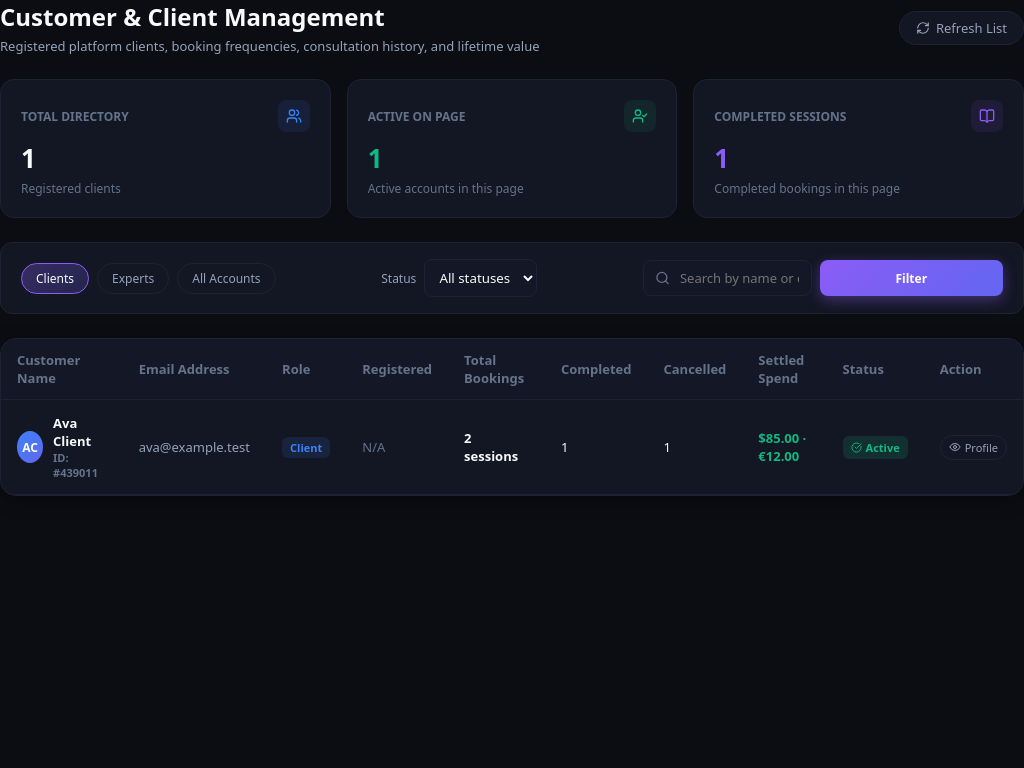
it: live admin views › renders real customer rows and loads the selected customer history
Expected: the text "ava@example.test" is shown, x1=123 y1=400 x2=266 y2=494
Expected: the text "$85.00 · €12.00" is shown, x1=742 y1=400 x2=826 y2=494
Select "Suspended" in the dropdown named "filter accounts by status". click: (481, 278)
box: x1=424 y1=259 x2=537 y2=297
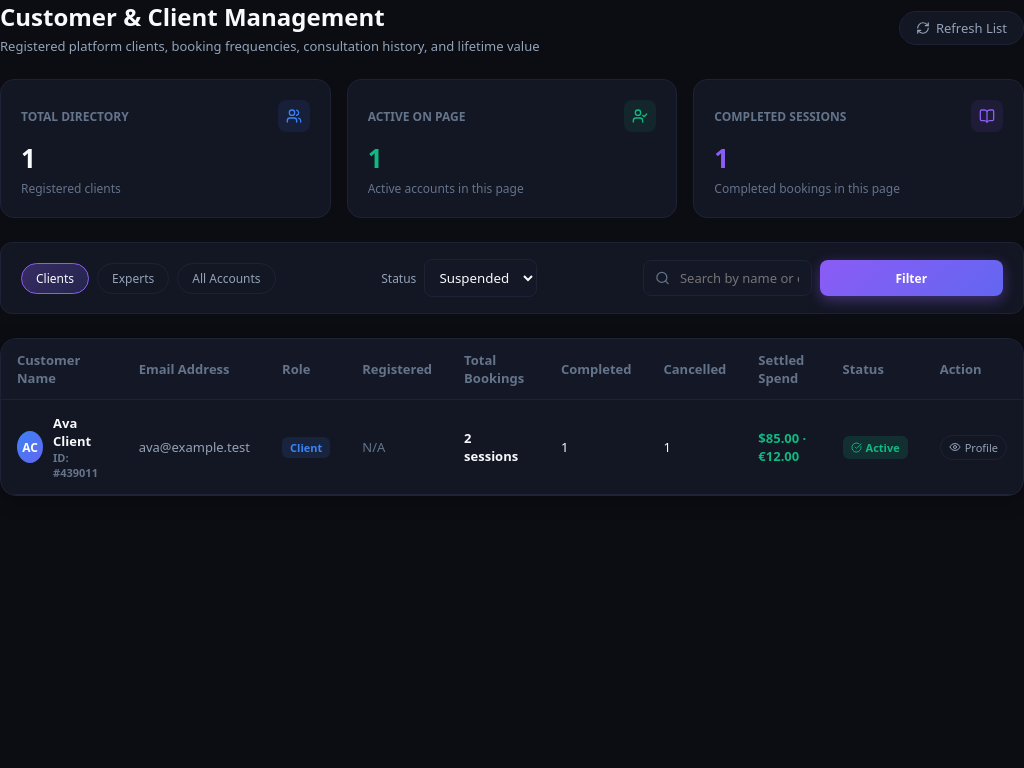
Click the button "Profile". click: click(973, 447)
box: x1=940 y1=434 x2=1007 y2=460
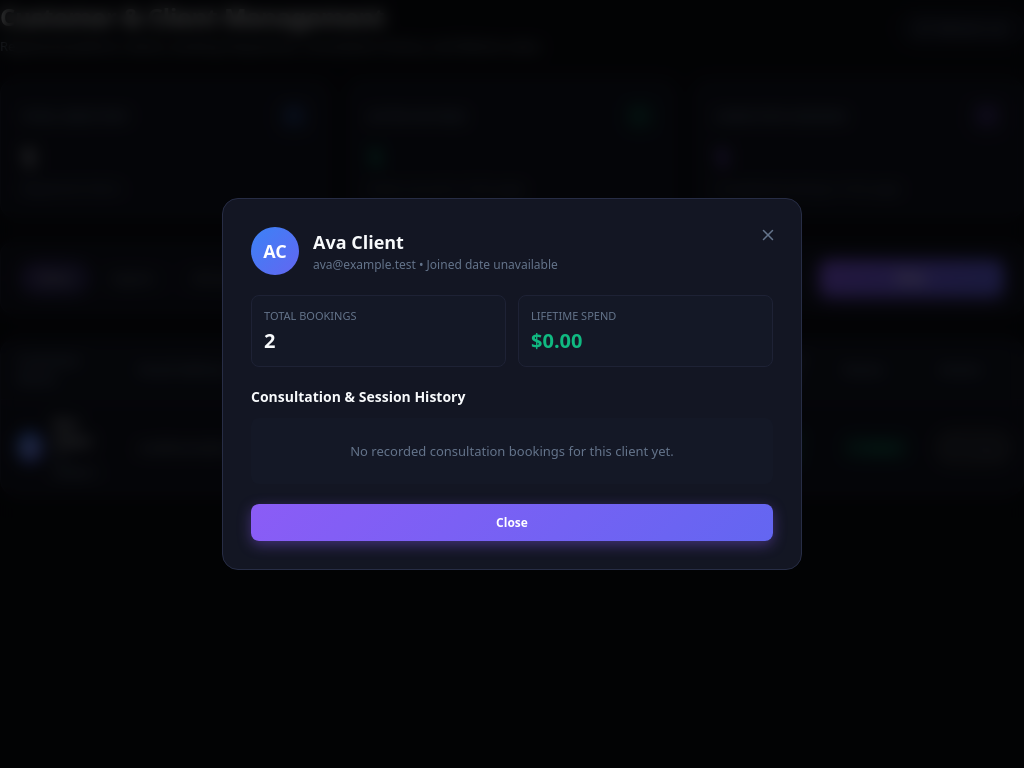
Expected: the text "No recorded consultation bookings for this client yet." is shown, x1=251 y1=418 x2=773 y2=484
